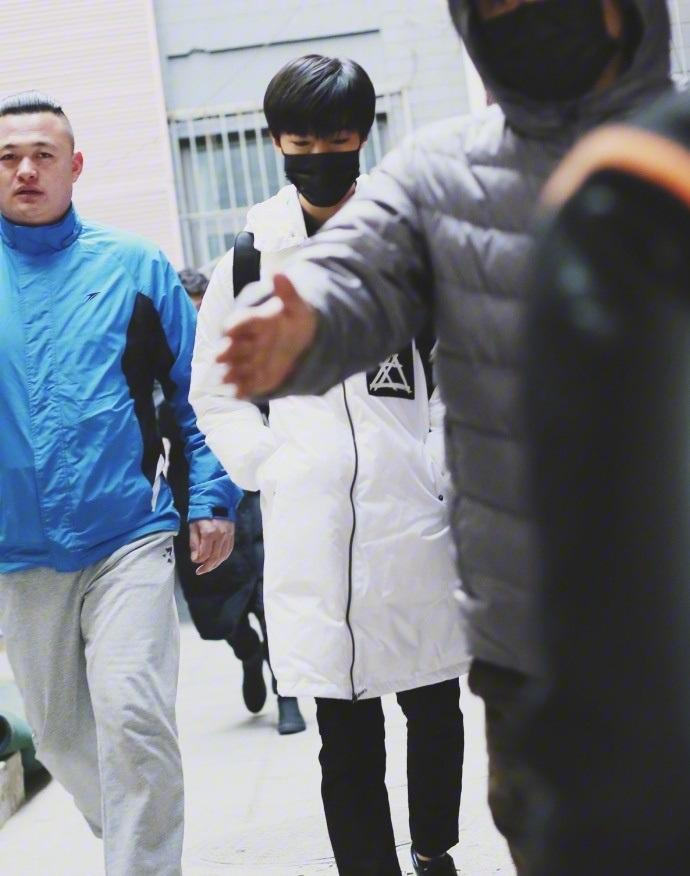face: (1, 115, 70, 222)
face_mask: (451, 2, 621, 108), (279, 101, 360, 207)
